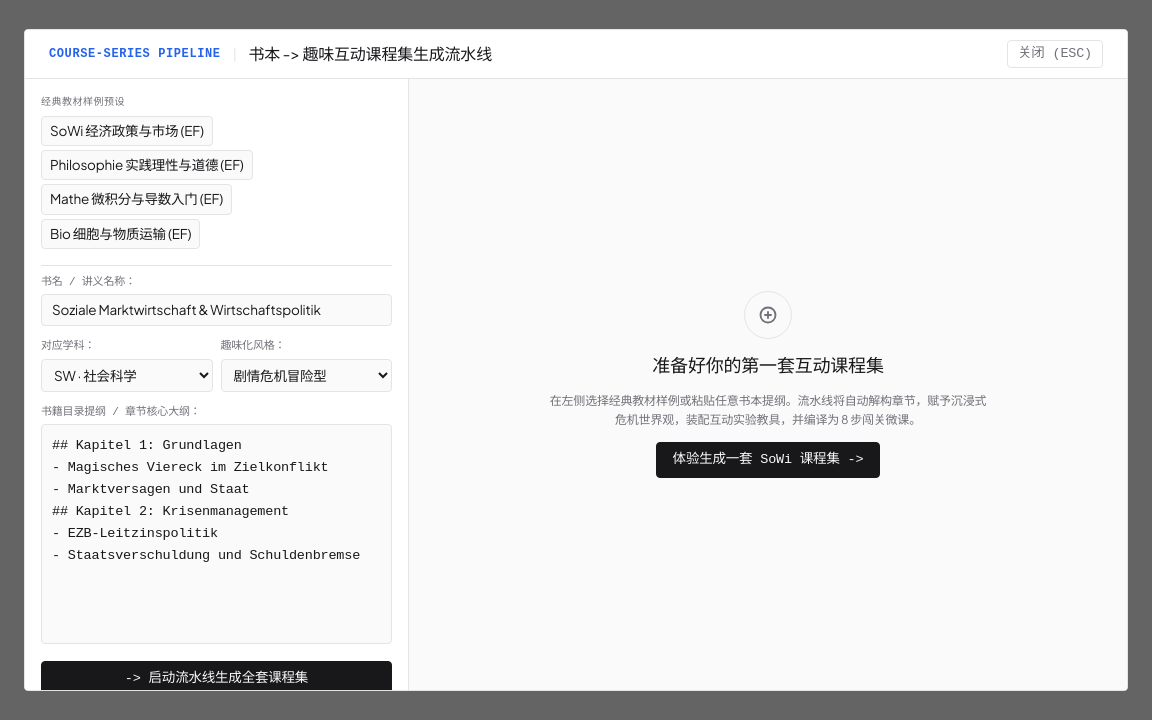
Scenario: CoursePipelineModal (书本-课程集生成流水线工坊测试) › applies book preset and updates form fields
Click the button "Philosophie 实践理性与道德 (EF)".
click(147, 165)  # box [41,150,253,180]
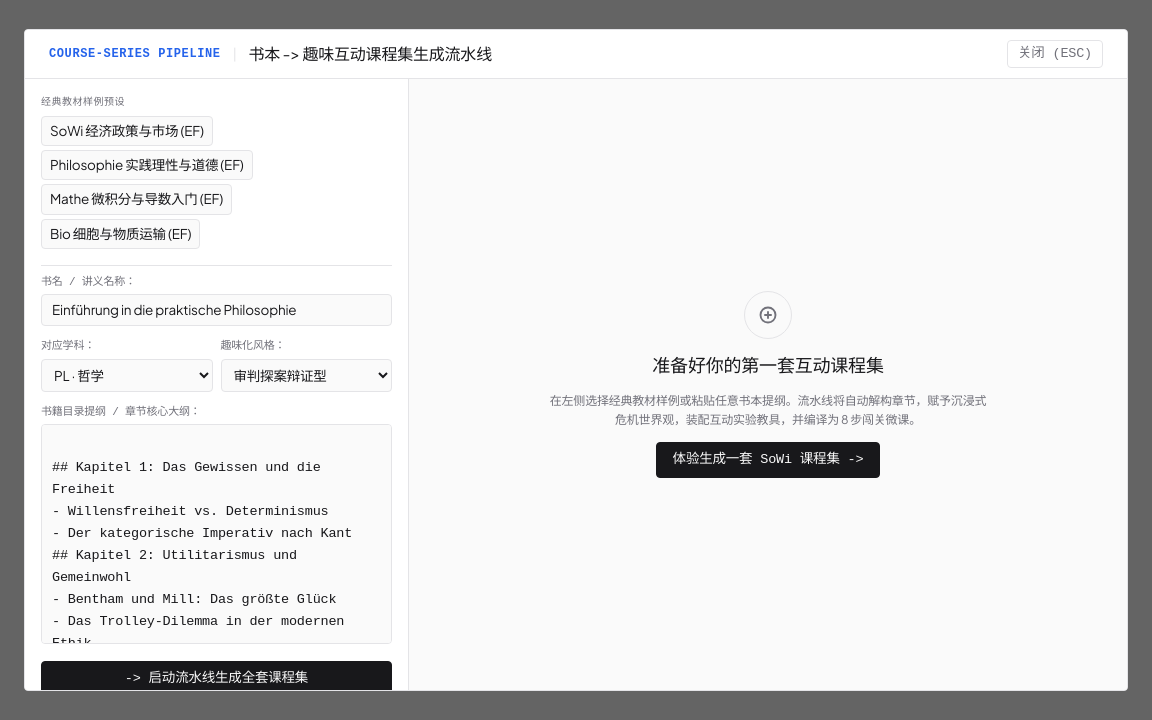
Now the field with placeholder "z. B. SoWi EF Wirtschaftspolitik" holds "Einführung in die praktische Philosophie", box [41,294,392,326]
